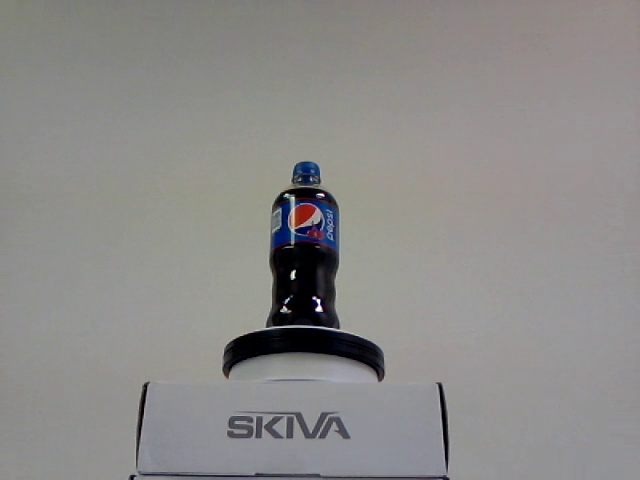botolplastik: (272, 161, 338, 329)
